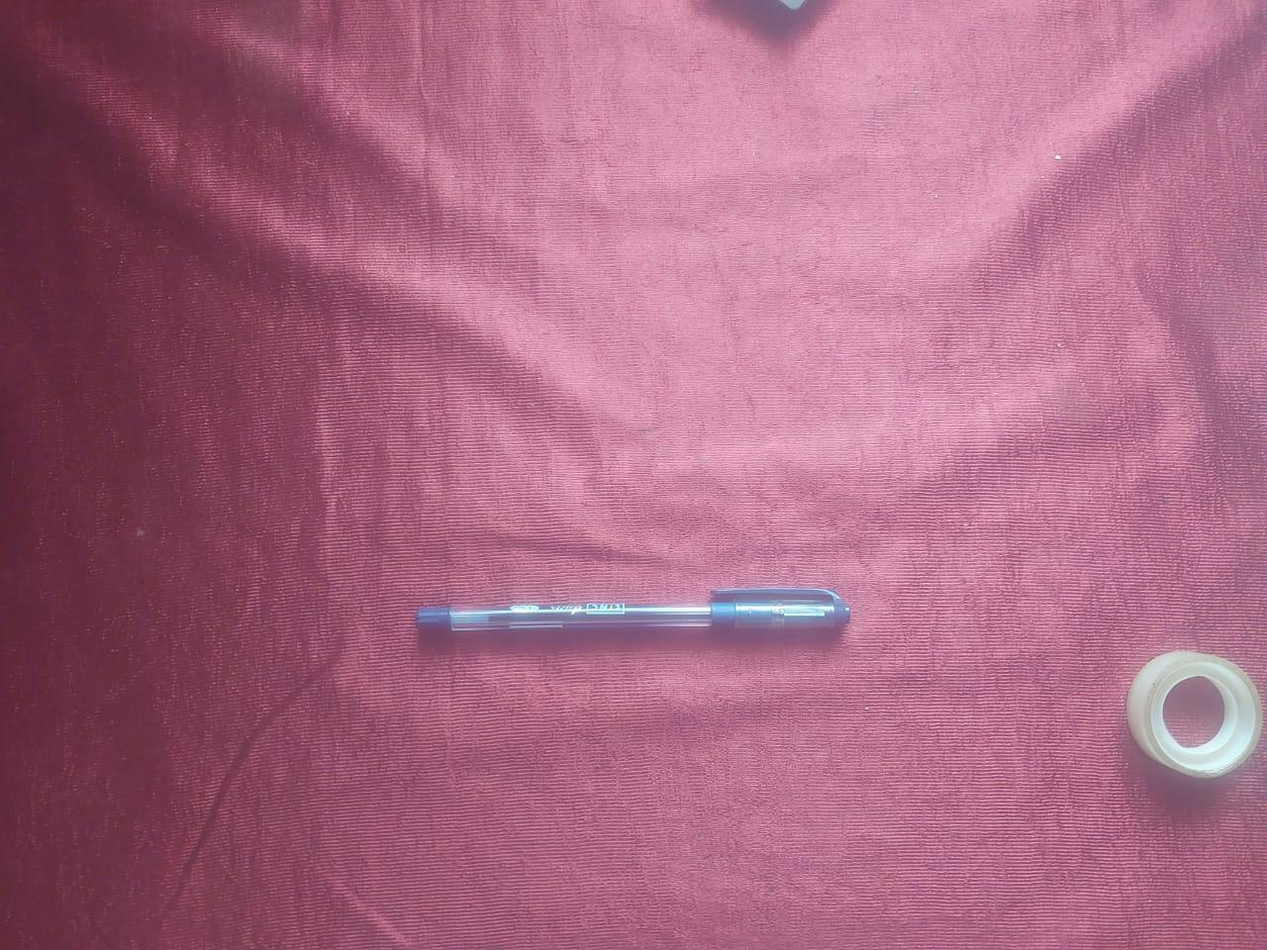pen: (412, 583, 847, 646)
